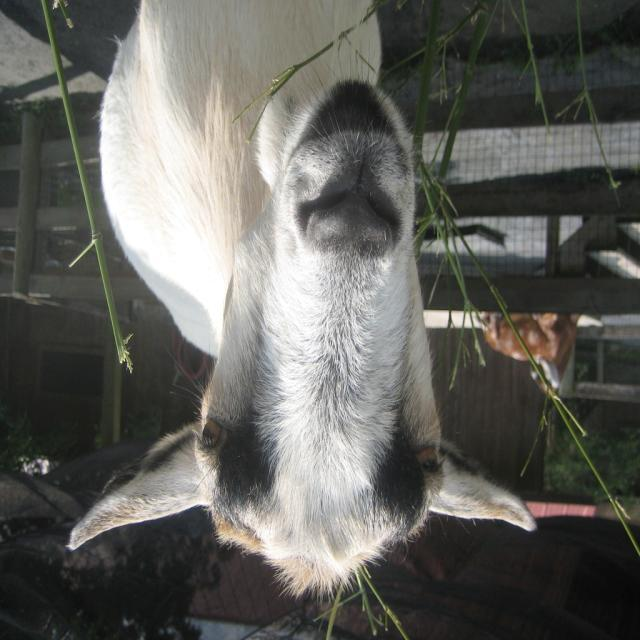Goat: (66, 2, 538, 604), (480, 312, 582, 397)
